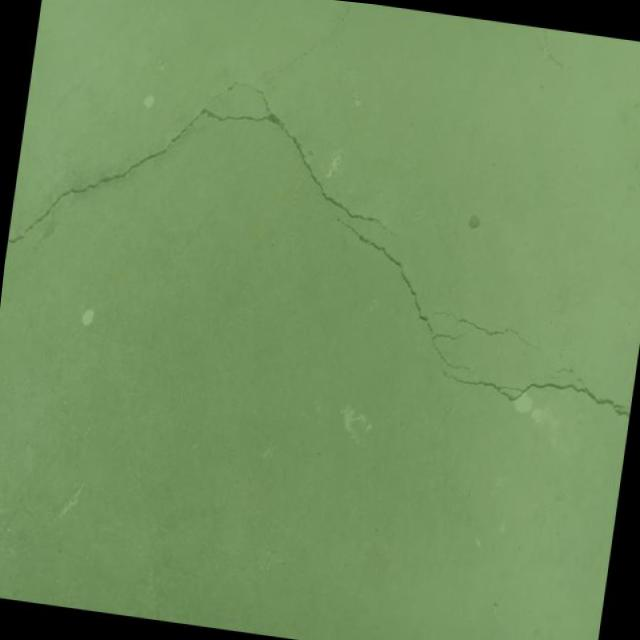crack: (6, 52, 416, 298), (312, 212, 498, 377), (438, 360, 634, 420), (267, 0, 350, 95), (428, 310, 548, 355), (549, 364, 574, 376)
